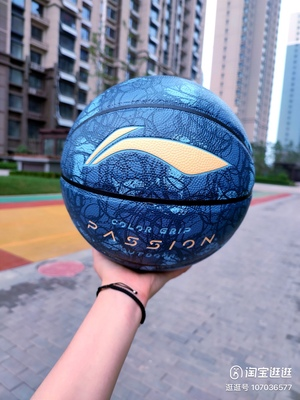ball: (61, 75, 255, 274)
